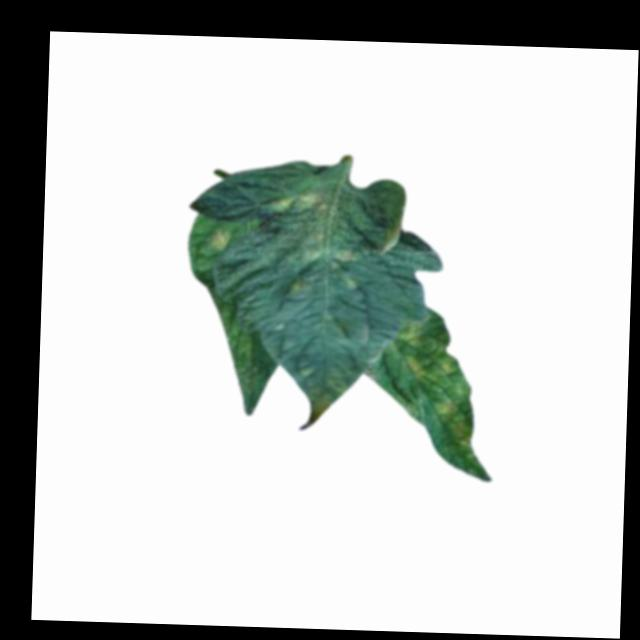Leaf_Mold: (385, 314, 478, 471), (265, 186, 364, 267), (208, 225, 235, 254)
